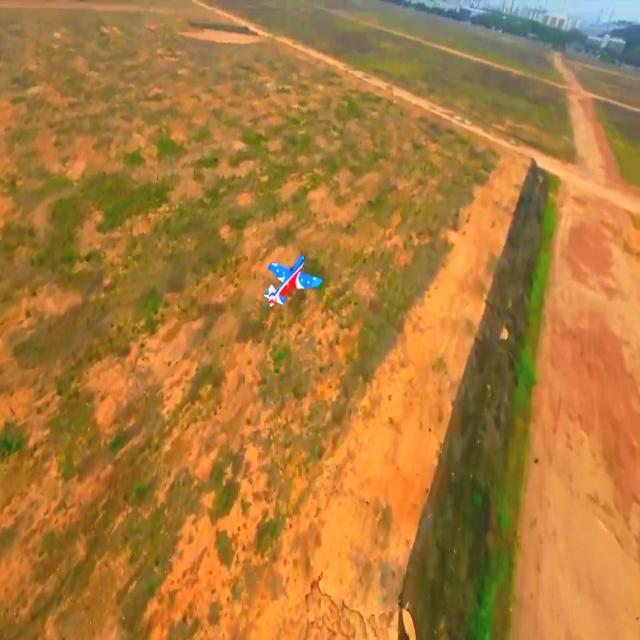iha: (262, 254, 323, 308)
